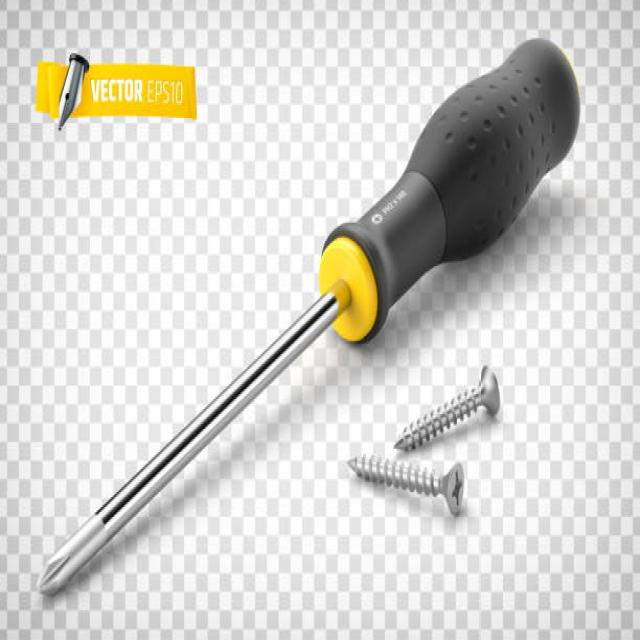screwdriver: (37, 37, 580, 595)
